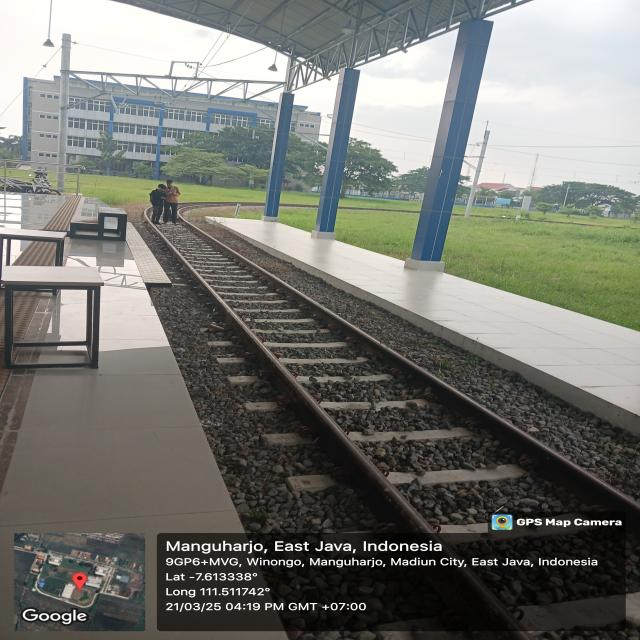rail-detection: (180, 215, 640, 536), (191, 269, 430, 532), (453, 570, 519, 630), (151, 224, 190, 268)
